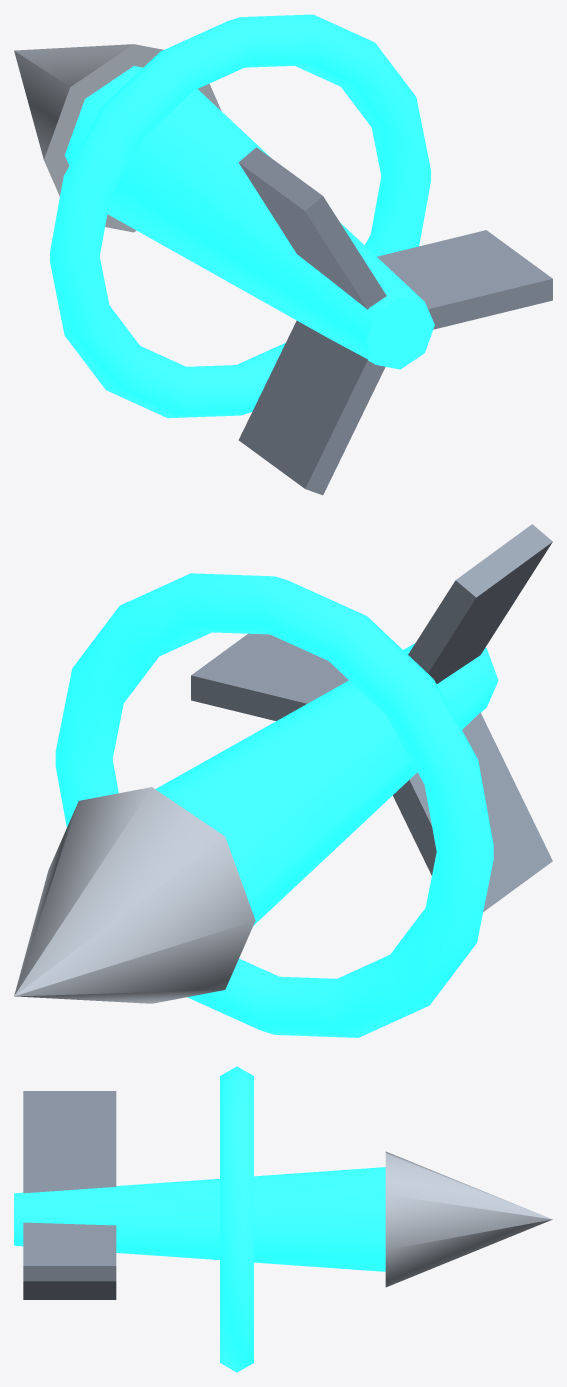
Rendered from proj_skywatch_bolt_t3.glb.
The picture shows the model from 3 angles, top to bottom: view 1: azimuth 30°, elevation 25°; view 2: azimuth 150°, elevation 25°; view 3: azimuth 270°, elevation 25°; orthographic projection. The views are drawn at different scales.
Visible parts, largest first — view 1: proj_skywatch_bolt_t3_ring, proj_skywatch_bolt_t3_core, proj_skywatch_bolt_t3_fin2, proj_skywatch_bolt_t3_fin0, proj_skywatch_bolt_t3_tip, proj_skywatch_bolt_t3_fin1; view 2: proj_skywatch_bolt_t3_ring, proj_skywatch_bolt_t3_tip, proj_skywatch_bolt_t3_core, proj_skywatch_bolt_t3_fin1, proj_skywatch_bolt_t3_fin2, proj_skywatch_bolt_t3_fin0; view 3: proj_skywatch_bolt_t3_core, proj_skywatch_bolt_t3_tip, proj_skywatch_bolt_t3_ring, proj_skywatch_bolt_t3_fin1, proj_skywatch_bolt_t3_fin0, proj_skywatch_bolt_t3_fin2.
Boxes of the visible parts, <box> form: proj_skywatch_bolt_t3_ring: <box>50,14,430,418</box>; proj_skywatch_bolt_t3_core: <box>64,66,434,369</box>; proj_skywatch_bolt_t3_fin2: <box>238,321,385,495</box>; proj_skywatch_bolt_t3_fin0: <box>377,230,552,329</box>; proj_skywatch_bolt_t3_tip: <box>14,44,221,232</box>; proj_skywatch_bolt_t3_fin1: <box>238,147,386,309</box>; proj_skywatch_bolt_t3_ring: <box>55,573,493,1037</box>; proj_skywatch_bolt_t3_tip: <box>14,787,255,1003</box>; proj_skywatch_bolt_t3_core: <box>155,643,498,925</box>; proj_skywatch_bolt_t3_fin1: <box>408,524,552,683</box>; proj_skywatch_bolt_t3_fin2: <box>393,712,552,911</box>; proj_skywatch_bolt_t3_fin0: <box>191,633,348,720</box>; proj_skywatch_bolt_t3_core: <box>14,1167,385,1271</box>; proj_skywatch_bolt_t3_tip: <box>385,1151,552,1287</box>; proj_skywatch_bolt_t3_ring: <box>220,1066,253,1372</box>; proj_skywatch_bolt_t3_fin1: <box>23,1091,116,1193</box>; proj_skywatch_bolt_t3_fin0: <box>23,1222,116,1281</box>; proj_skywatch_bolt_t3_fin2: <box>23,1281,116,1299</box>.
Size of the model in its own units: 0.33 by 0.33 by 0.58.
